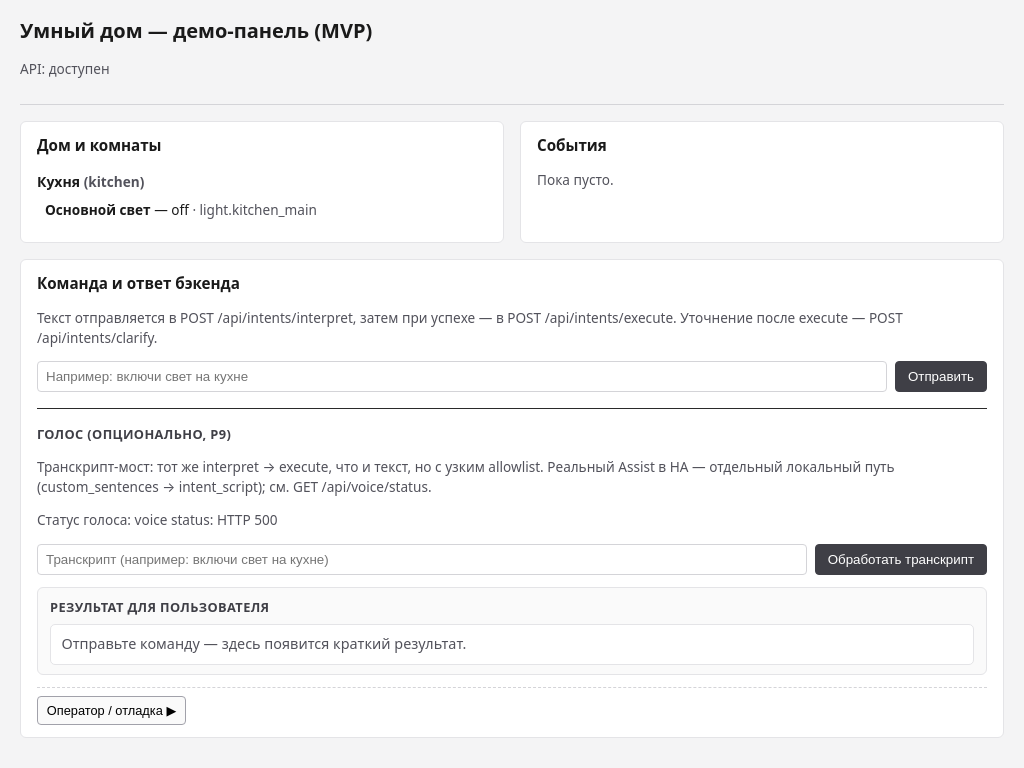
Test: App P6a › renders execute error summary
The image size is (1024, 768).
Expected: the element with test id "house-state" is shown, [37,172,317,219]
Type "x" into the field with test id "command-input".
click(462, 377); type("x")  # box [37,361,887,392]
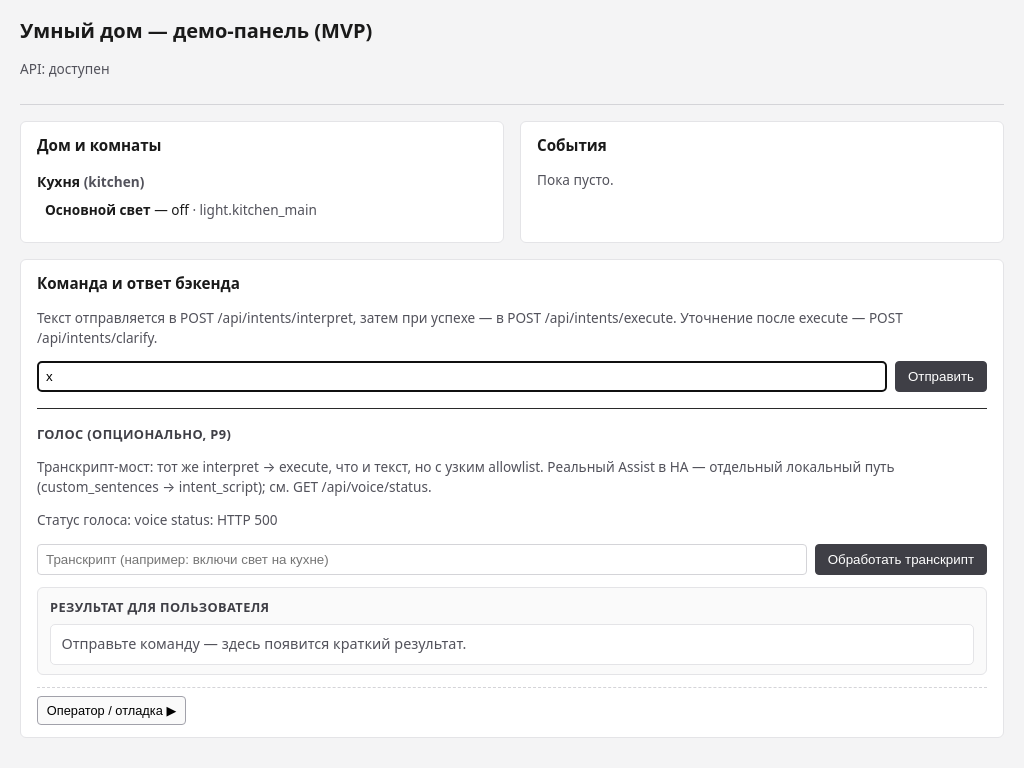
Click the button with test id "command-submit".
click(941, 377)  # box [895,361,987,392]
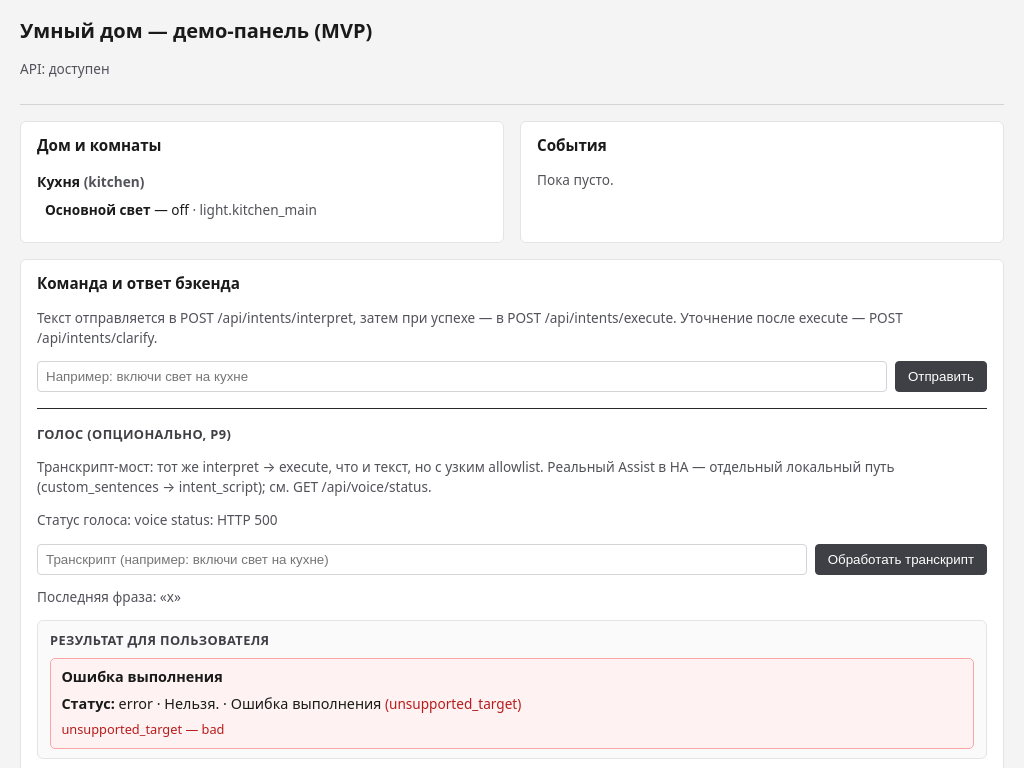
Result: the text with test id "execute-error" shows "unsupported_target" at [389,694,517,713]
